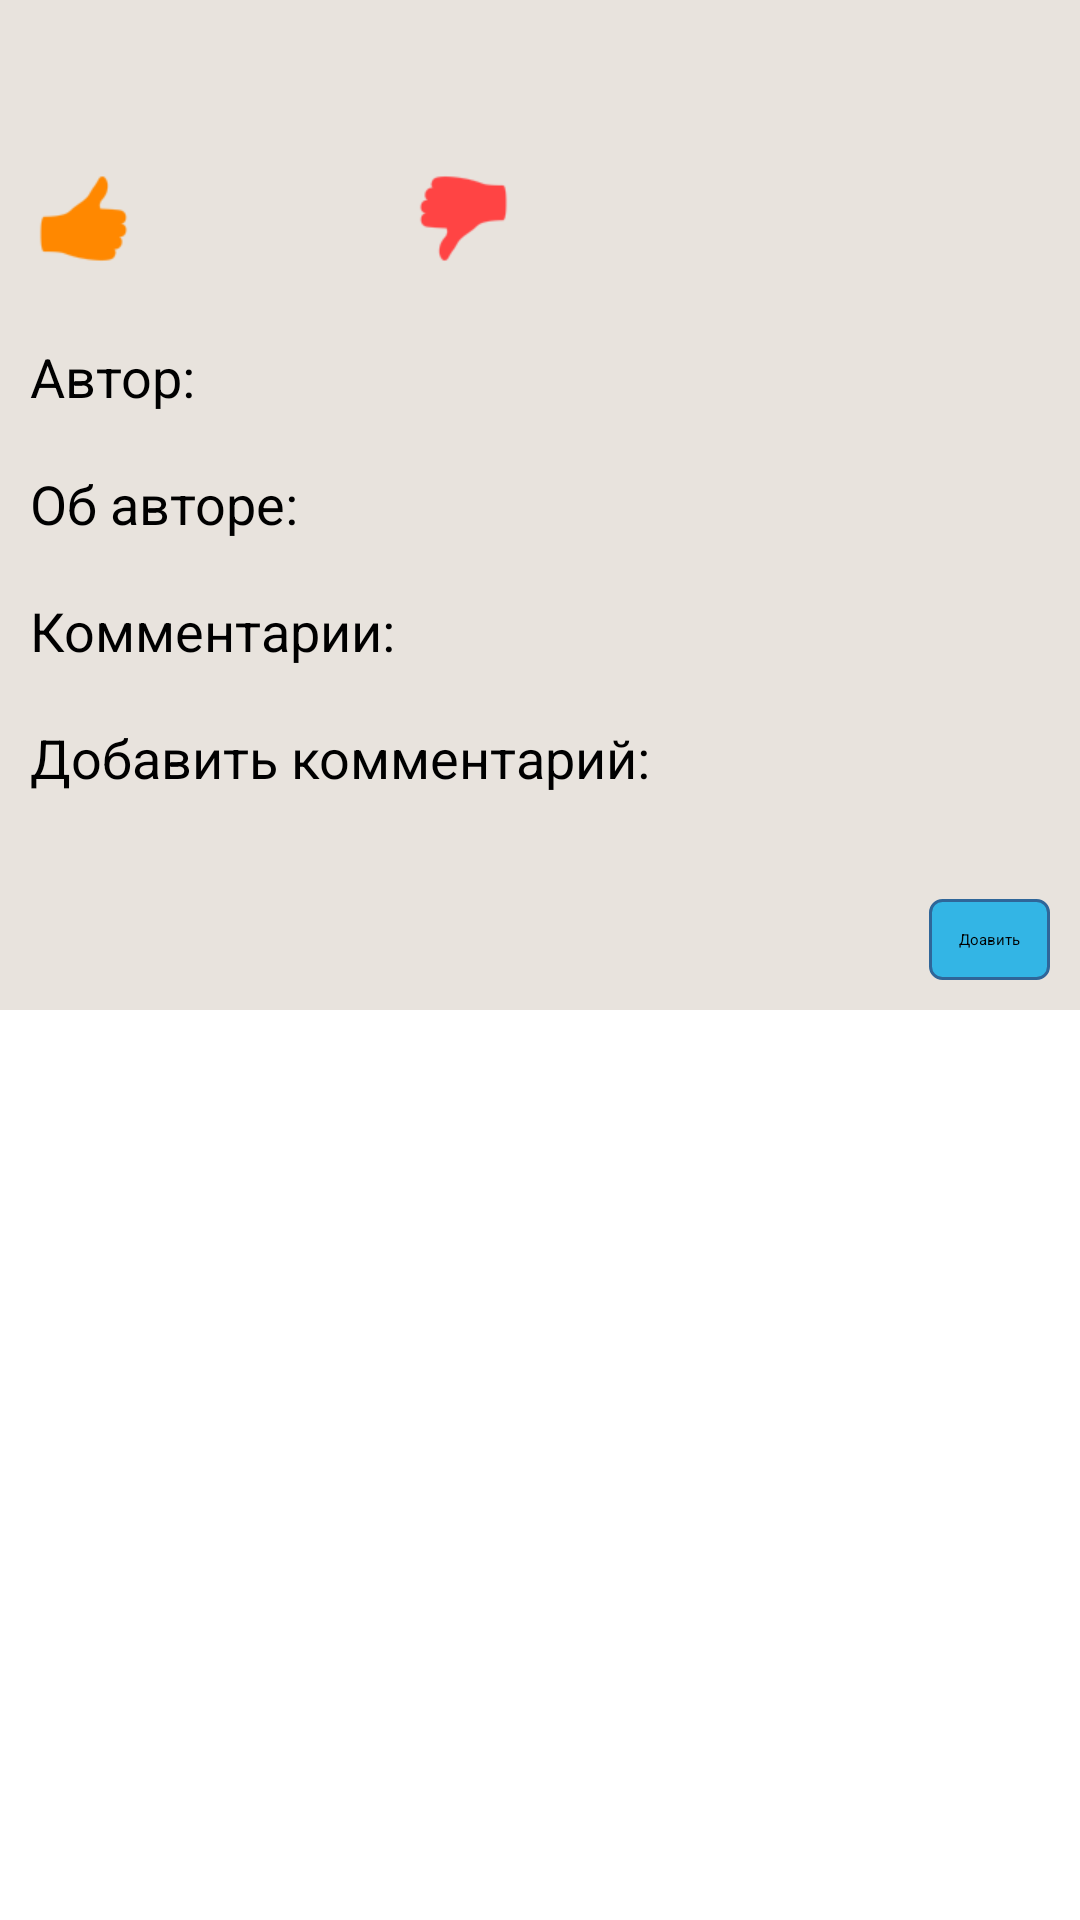

Icon click points for this 1080w x 1920h phone screenshot, format point (x, y):
rating bad: point (463, 218)
